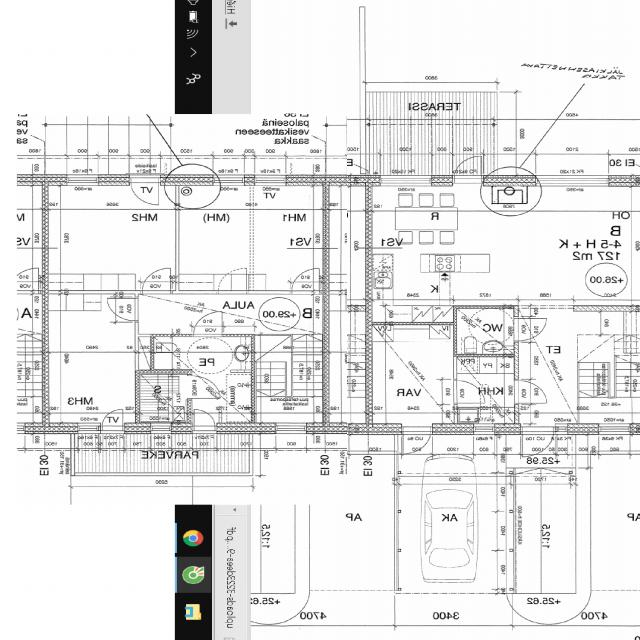door: (522, 424, 554, 459), (131, 175, 159, 209), (454, 153, 482, 186), (403, 424, 431, 456), (514, 318, 548, 341), (194, 311, 222, 337), (188, 376, 220, 398), (292, 268, 320, 293), (515, 381, 546, 403), (108, 298, 139, 320), (143, 268, 170, 293), (454, 380, 484, 402), (194, 405, 216, 434), (102, 405, 124, 434)
